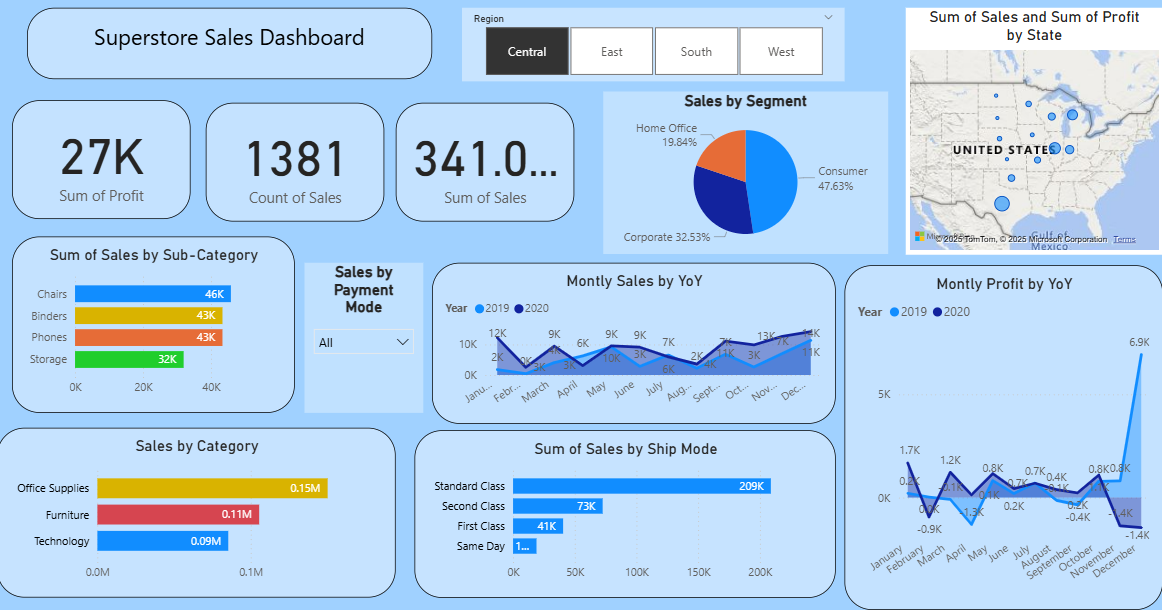

Layout of this report page (visuals, bound fields, positions):
{"tool":"powerbi","page":{"name":"Page 1","canvas":[1280,720],"ordinal":0},"visuals":[{"type":"slicer","fields":{"Values":["Sheet1.Region"]},"box":[510.5,53.5,419.9,81],"z":0},{"type":"card","fields":{"Values":["Sum(Sheet1.Profit)"]},"box":[16.5,155.1,196.2,130.4],"z":1000},{"type":"card","fields":{"Values":["Sum(Sheet1.Sales)"]},"box":[437.7,157.8,196.2,130.4],"z":2000},{"type":"card","fields":{"Values":["CountNonNull(Sheet1.Sales)"]},"box":[229.2,157.8,196,130],"z":3000},{"type":"slicer","title":"Sales by Payment Mode","fields":{"Values":["Sheet1.Payment Mode","Sheet1.Sales"]},"box":[337.6,333.4,130.4,164.7],"z":4000},{"type":"pieChart","title":"Sales by Segment","fields":{"Y":["Sum(Sheet1.Sales)"],"Category":["Sheet1.Segment"]},"box":[665.5,145.5,312.9,178.4],"z":5000},{"type":"barChart","fields":{"Category":["Sheet1.Sub-Category"],"Y":["Sum(Sheet1.Sales)"]},"box":[16.5,304.6,310.1,193.5],"z":6000},{"type":"barChart","title":"Sales by Category","fields":{"Category":["Sheet1.Category"],"Y":["Sum(Sheet1.Sales)"]},"box":[0,514.6,437.7,186.6],"z":7000},{"type":"textbox","box":[32.9,53.5,444.6,78.2],"z":8000},{"type":"areaChart","title":"Montly Sales by YoY","fields":{"Y":["Sum(Sheet1.Sales)"],"Series":["Sheet1.Order Date.Variation.Date Hierarchy.Year"],"Category":["Sheet1.Order Date.Variation.Date Hierarchy.Month"]},"box":[477.5,333.4,443.2,177],"z":9000},{"type":"areaChart","title":"Montly Profit by YoY","fields":{"Series":["Sheet1.Order Date.Variation.Date Hierarchy.Year"],"Category":["Sheet1.Order Date.Variation.Date Hierarchy.Month"],"Y":["Sum(Sheet1.Profit)"]},"box":[930.4,336.2,349.9,378.7],"z":10000},{"type":"map","fields":{"Category":["Sheet1.State"],"Size":["Sum(Sheet1.Sales)"]},"box":[997.6,53.5,282.7,270.3],"z":11000},{"type":"clusteredBarChart","fields":{"Category":["Sheet1.Ship Mode"],"Y":["Sum(Sheet1.Sales)"]},"box":[458.3,517.3,462.4,183.9],"z":12000}]}

Visuals, with their boxes in screenshot pixels (x1, y1, x2, y2):
slicer - Sheet1.Region: 459 9 837 82
card - Sum(Sheet1.Profit): 15 100 191 218
card - Sum(Sheet1.Sales): 394 103 570 220
card - CountNonNull(Sheet1.Sales): 206 103 383 220
"Sales by Payment Mode" slicer: 304 261 421 409
"Sales by Segment" pieChart: 599 92 880 252
barChart - Sheet1.Sub-Category x Sum(Sheet1.Sales): 15 235 294 409
"Sales by Category" barChart: 0 424 394 592
textbox: 30 9 430 79
"Montly Sales by YoY" areaChart: 430 261 829 420
"Montly Profit by YoY" areaChart: 837 263 1152 604
map - Sheet1.State x Sum(Sheet1.Sales): 898 9 1152 252
clusteredBarChart - Sheet1.Ship Mode x Sum(Sheet1.Sales): 412 426 829 592
